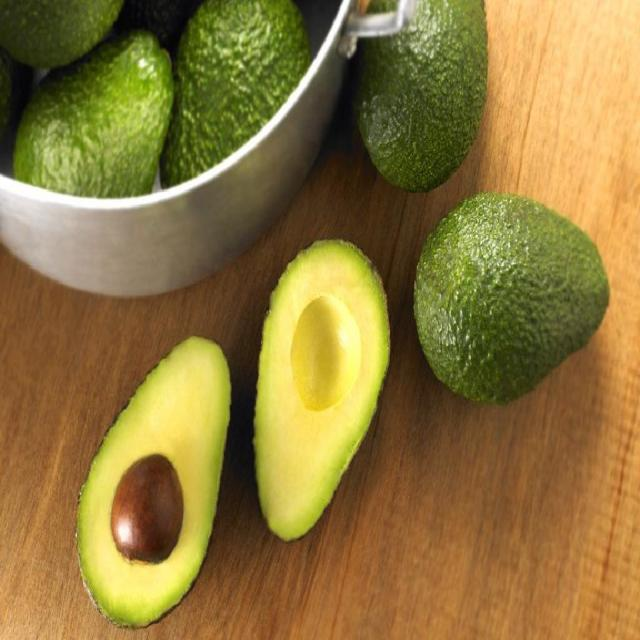avocado: (76, 335, 227, 626), (254, 238, 394, 540), (416, 190, 609, 402), (160, 2, 309, 186), (13, 32, 175, 195), (357, 0, 488, 188), (0, 0, 123, 66)
